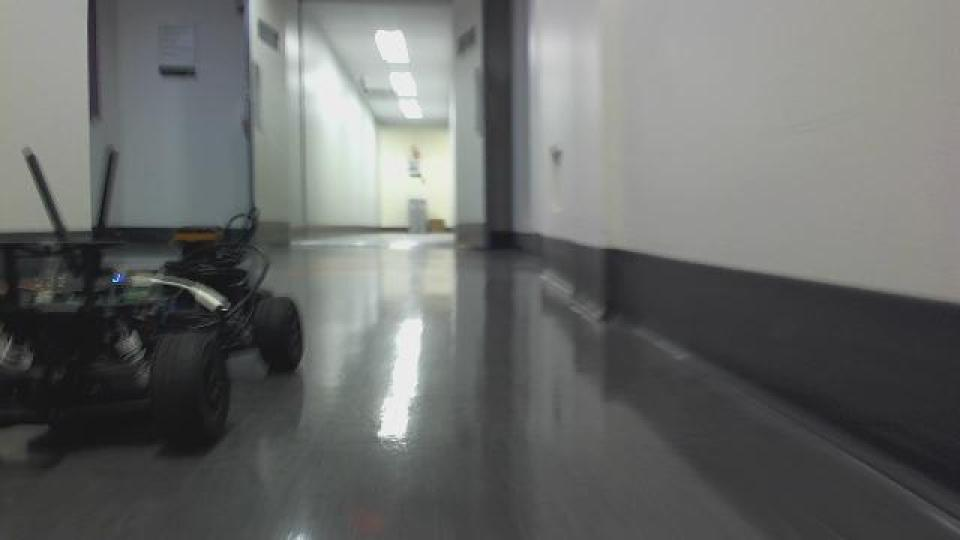car: (2, 144, 306, 450)
